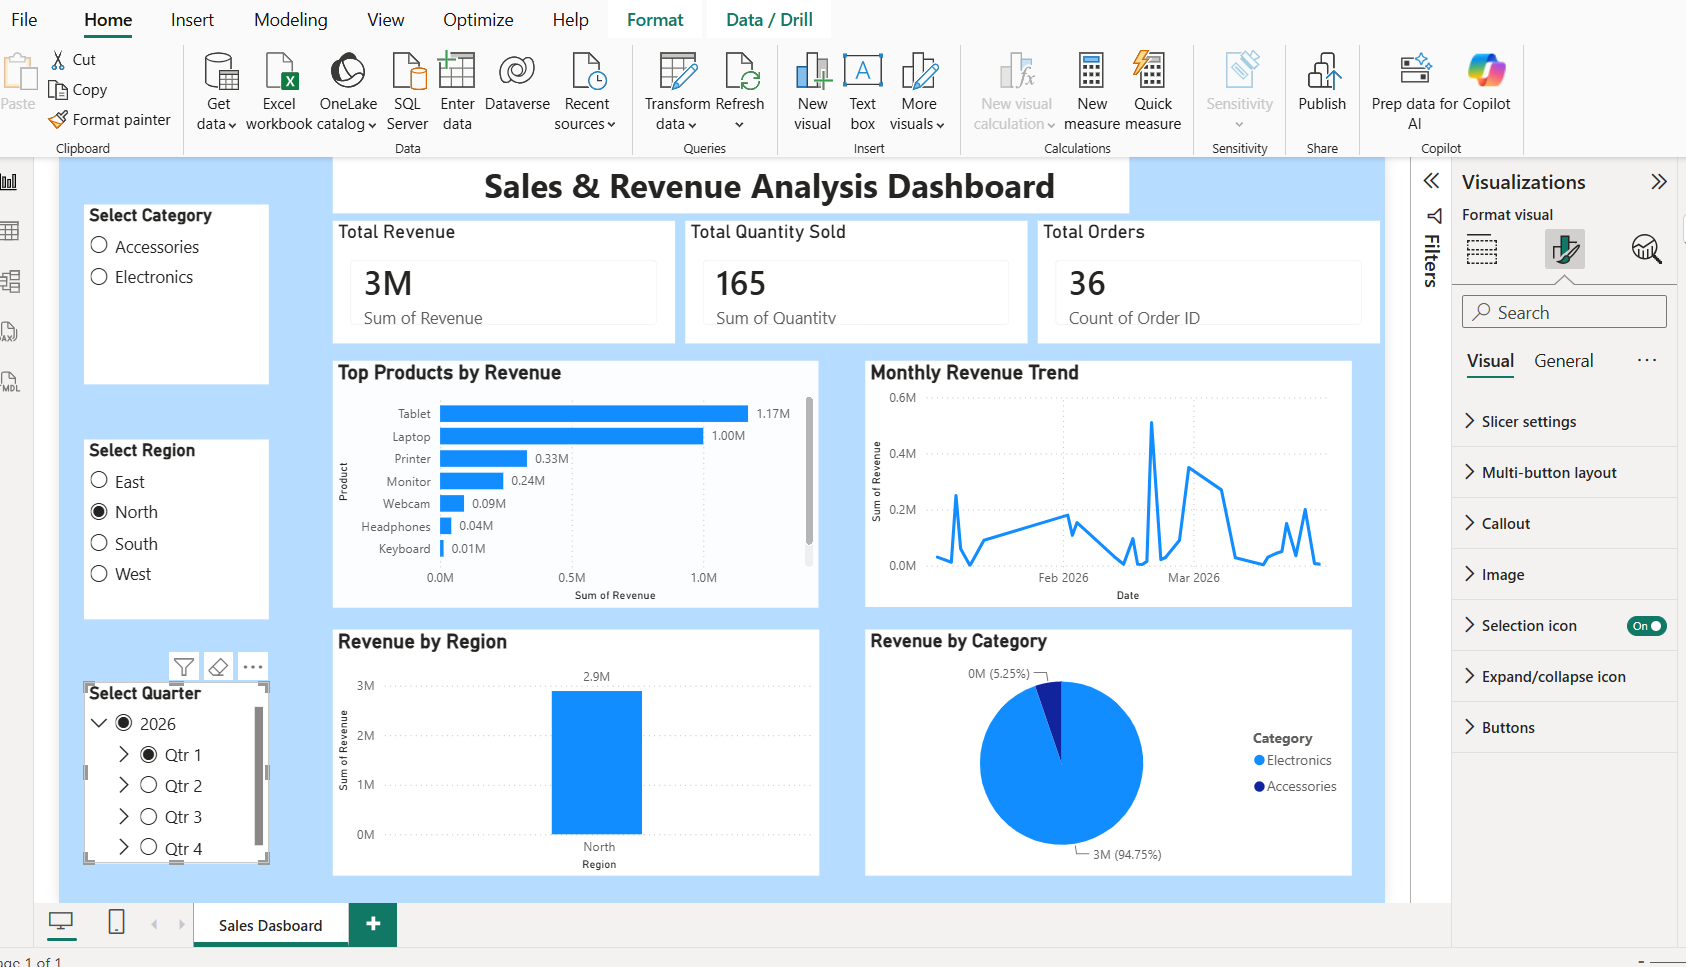

What the dashboard file says about the page in this screenshot:
{"tool":"powerbi","page":{"name":"Sales Dasboard","canvas":[1280,720],"ordinal":0},"visuals":[{"type":"cardVisual","title":"Total Revenue","fields":{"Data":["Sum(SalesData.Revenue)"]},"box":[264.2,61.5,330.6,118.2],"z":0},{"type":"cardVisual","title":"Total Quantity Sold","fields":{"Data":["Sum(SalesData.Quantity)"]},"box":[604.4,61.5,330.6,118.2],"z":1000},{"type":"cardVisual","title":"Total Orders","fields":{"Data":["CountNonNull(SalesData.Order ID)"]},"box":[944.6,61.5,330,118],"z":2000},{"type":"lineChart","title":"Monthly Revenue Trend","fields":{"Y":["Sum(SalesData.Revenue)"],"Category":["SalesData.Date"]},"box":[778.2,196.6,469.3,237.7],"z":3000},{"type":"clusteredBarChart","title":"Top Products by Revenue","fields":{"Category":["SalesData.Product"],"Y":["Sum(SalesData.Revenue)"]},"box":[264.2,196.6,469,238],"z":4000},{"type":"clusteredColumnChart","title":"Revenue by Region","fields":{"Category":["SalesData.Region"],"Y":["Sum(SalesData.Revenue)"]},"box":[264.2,456,469.3,237.7],"z":5000},{"type":"pieChart","title":" Revenue by Category","fields":{"Category":["SalesData.Category"],"Y":["Sum(SalesData.Revenue)"]},"box":[778.2,456,469.3,237.7],"z":6000},{"type":"listSlicer","title":"Select Region","fields":{"Values":["SalesData.Region"]},"box":[24.1,272.7,178.6,173.7],"z":7000},{"type":"listSlicer","title":"Select Category","fields":{"Values":["SalesData.Category"]},"box":[24.1,45.8,178.6,173.7],"z":8000},{"type":"listSlicer","title":"Select Quarter","fields":{"Values":["SalesData.Date.Variation.Date Hierarchy.Year","SalesData.Date.Variation.Date Hierarchy.Quarter","SalesData.Date.Variation.Date Hierarchy.Month","SalesData.Date.Variation.Date Hierarchy.Day"]},"box":[24.1,506.7,178.6,174.9],"z":9000},{"type":"textbox","box":[264.2,0,768.5,54.3],"z":10000}]}

Visuals, with their boxes on the page's 1280x720 design canvas (x1, y1, x2, y2). These are canvas units, not pixel positions in the 1686x967 screenshot, which may show the page scaled, cropped or inside an application window:
"Total Revenue" cardVisual: bbox(264, 62, 595, 180)
"Total Quantity Sold" cardVisual: bbox(604, 62, 935, 180)
"Total Orders" cardVisual: bbox(945, 62, 1275, 180)
"Monthly Revenue Trend" lineChart: bbox(778, 197, 1248, 434)
"Top Products by Revenue" clusteredBarChart: bbox(264, 197, 733, 435)
"Revenue by Region" clusteredColumnChart: bbox(264, 456, 734, 694)
" Revenue by Category" pieChart: bbox(778, 456, 1248, 694)
"Select Region" listSlicer: bbox(24, 273, 203, 446)
"Select Category" listSlicer: bbox(24, 46, 203, 220)
"Select Quarter" listSlicer: bbox(24, 507, 203, 682)
textbox: bbox(264, 0, 1033, 54)
